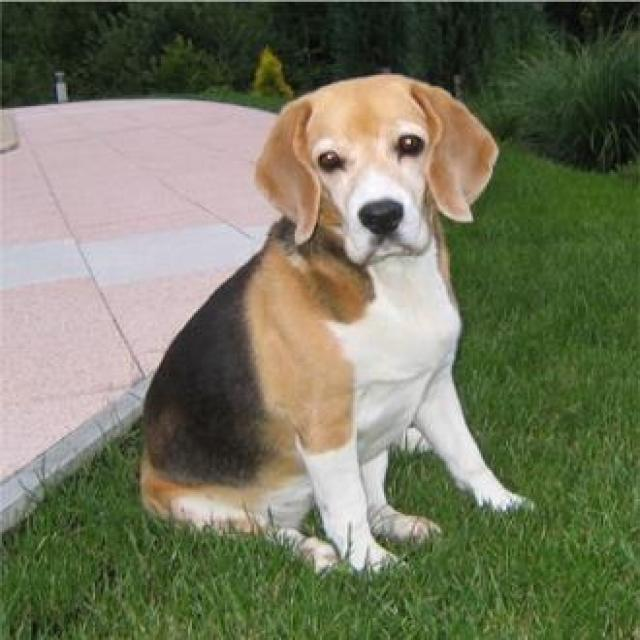relax: (135, 26, 547, 585)
